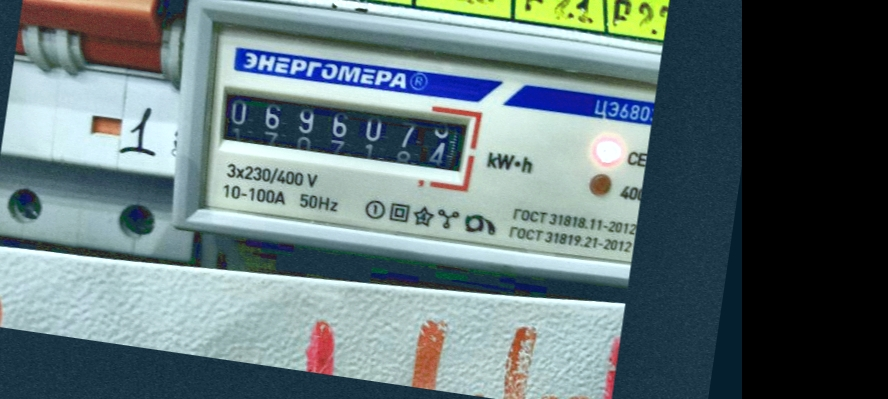0: (361, 115, 383, 147), (227, 99, 248, 130)
4: (425, 139, 446, 170)
6: (328, 111, 349, 142), (261, 103, 282, 133)
7: (394, 121, 418, 154)
9: (294, 108, 316, 138)
screen: (201, 73, 487, 195)
